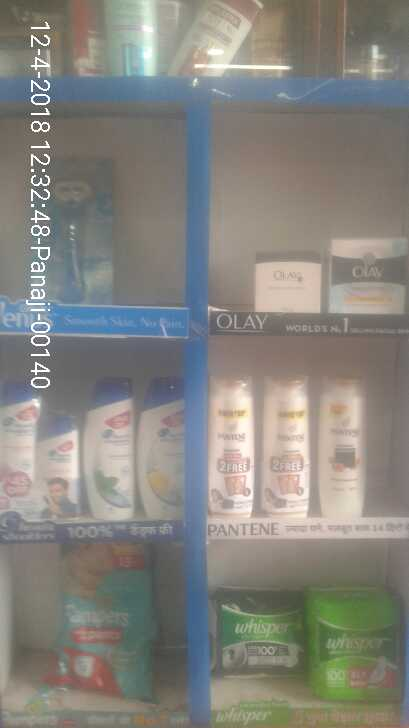venus: (33, 154, 113, 302)
